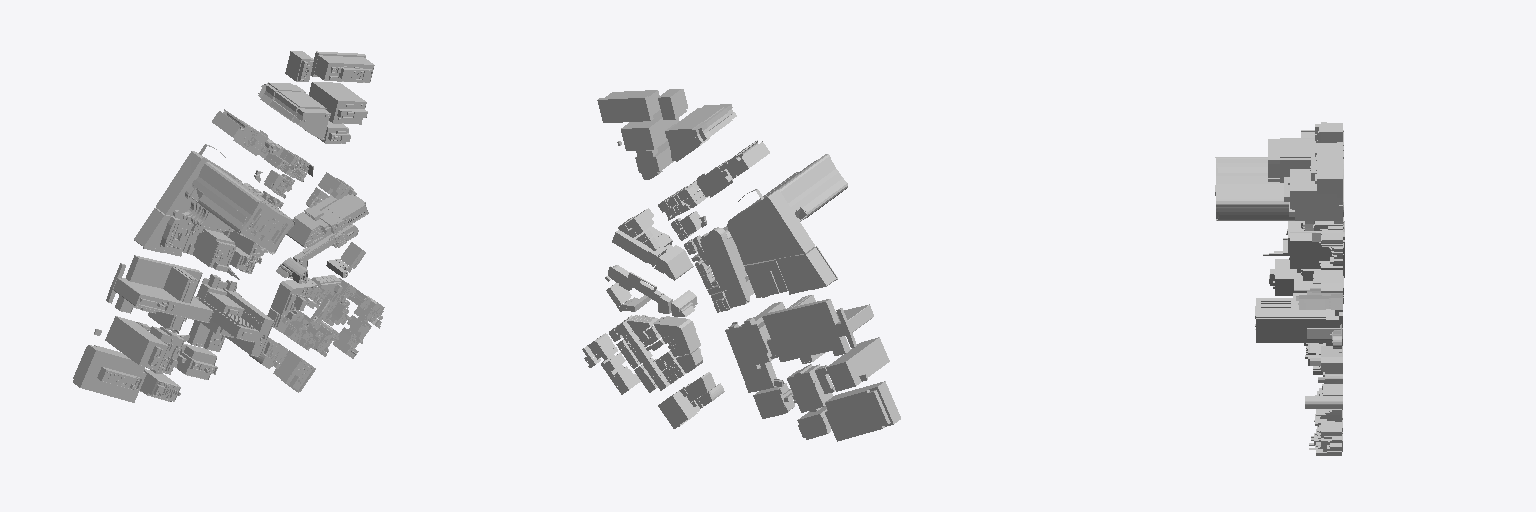
Rendered from 533946004_bldg_6677.obj.
3 views of the same model, side by side, from view 1: azimuth 30°, elevation 25°; view 2: azimuth 150°, elevation 25°; view 3: azimuth 270°, elevation 25° (orthographic).
Size of the model in its own units: 528 by 541 by 191.